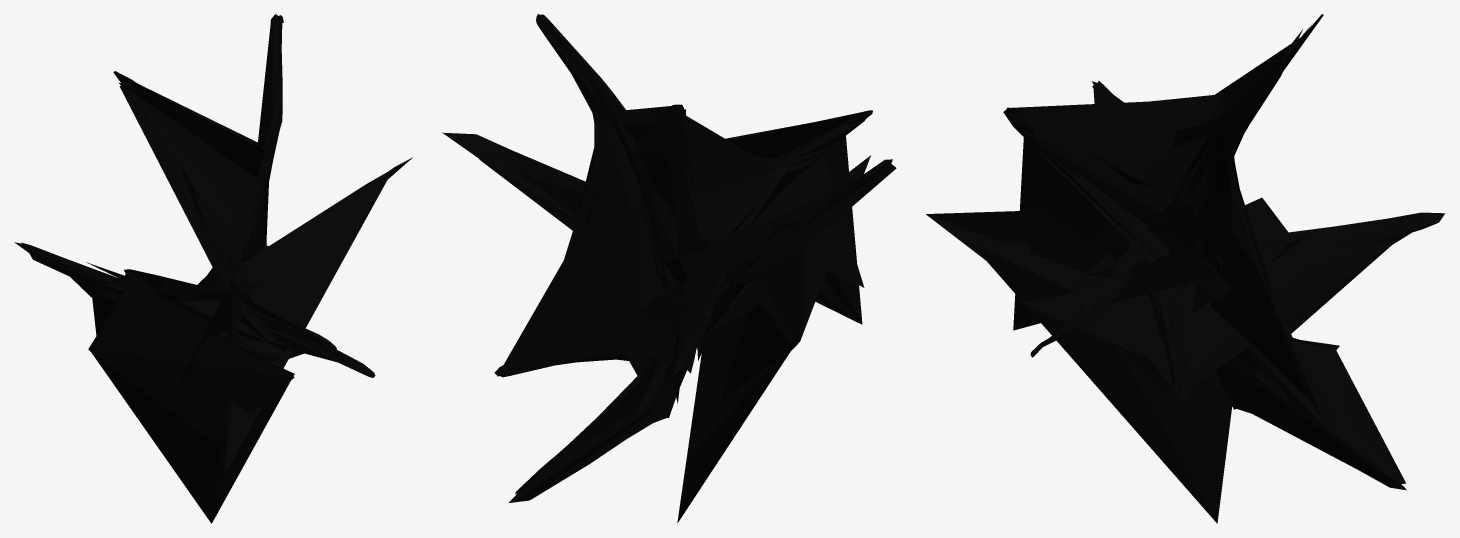
The model's file is environement02.obj.
The picture shows the model from 3 angles, left to right: view 1: azimuth 30°, elevation 25°; view 2: azimuth 150°, elevation 25°; view 3: azimuth 270°, elevation 25°; orthographic projection. The views are drawn at different scales.
Parts seen in each view (by area): view 1: Icosphere; view 2: Icosphere; view 3: Icosphere.
Part boxes in pixels (<box>): Icosphere: <box>14,14,412,523</box>; Icosphere: <box>442,14,896,523</box>; Icosphere: <box>926,14,1444,523</box>.
Bounding box in the file's own units: 160 × 202 × 182.
Materials: 1 (1 with a texture image).
